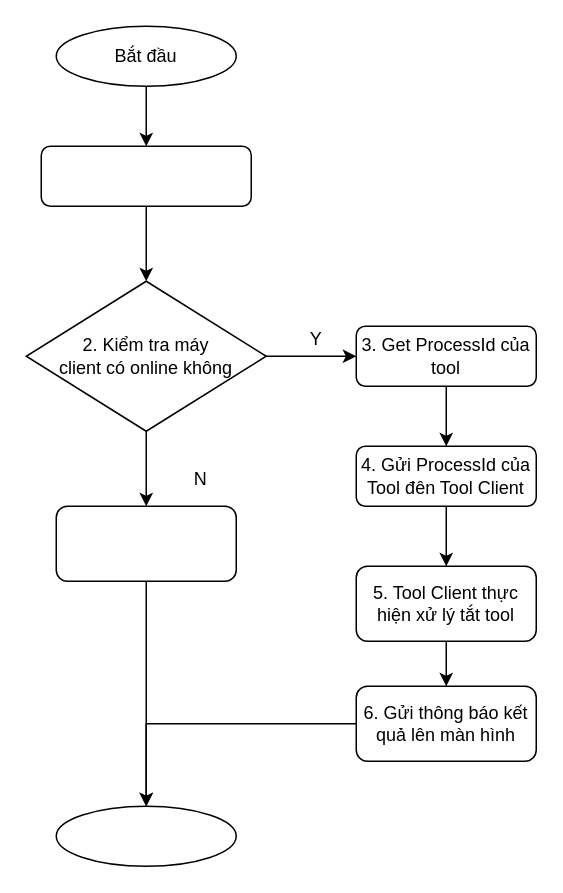
The diagram is 563 pixels wide and 893 high, and some of its shapes have lost their labels. Each missing label, with the centre of its shape:
"1. Get thông tin của máy client cài tool cần tắt" goes at pixel 145 175.
"7. Gửi thông báo máy client offline lên màn hình" goes at pixel 145 543.
"Kết thúc" goes at pixel 145 835.
